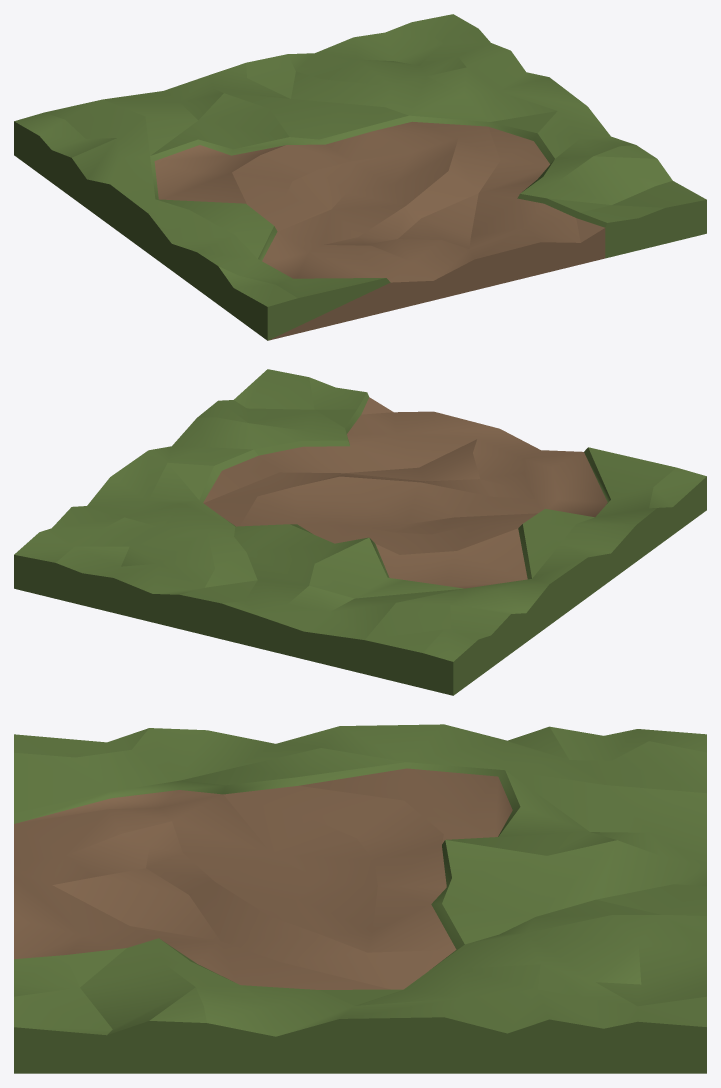
Rendered from Ground_Path_Ending_U.glb.
The picture shows the model from 3 angles, top to bottom: view 1: azimuth 30°, elevation 25°; view 2: azimuth 150°, elevation 25°; view 3: azimuth 270°, elevation 25°; orthographic projection. The views are drawn at different scales.
Parts seen in each view (by area): view 1: Ground_Path_Ending_U; view 2: Ground_Path_Ending_U; view 3: Ground_Path_Ending_U.
Boxes of the visible parts, x1,y1,x2,y2 form: Ground_Path_Ending_U: (14, 14, 706, 340); Ground_Path_Ending_U: (14, 369, 706, 695); Ground_Path_Ending_U: (14, 724, 706, 1073).
Size of the model in its own units: 1.47 by 0.1421 by 1.47.
